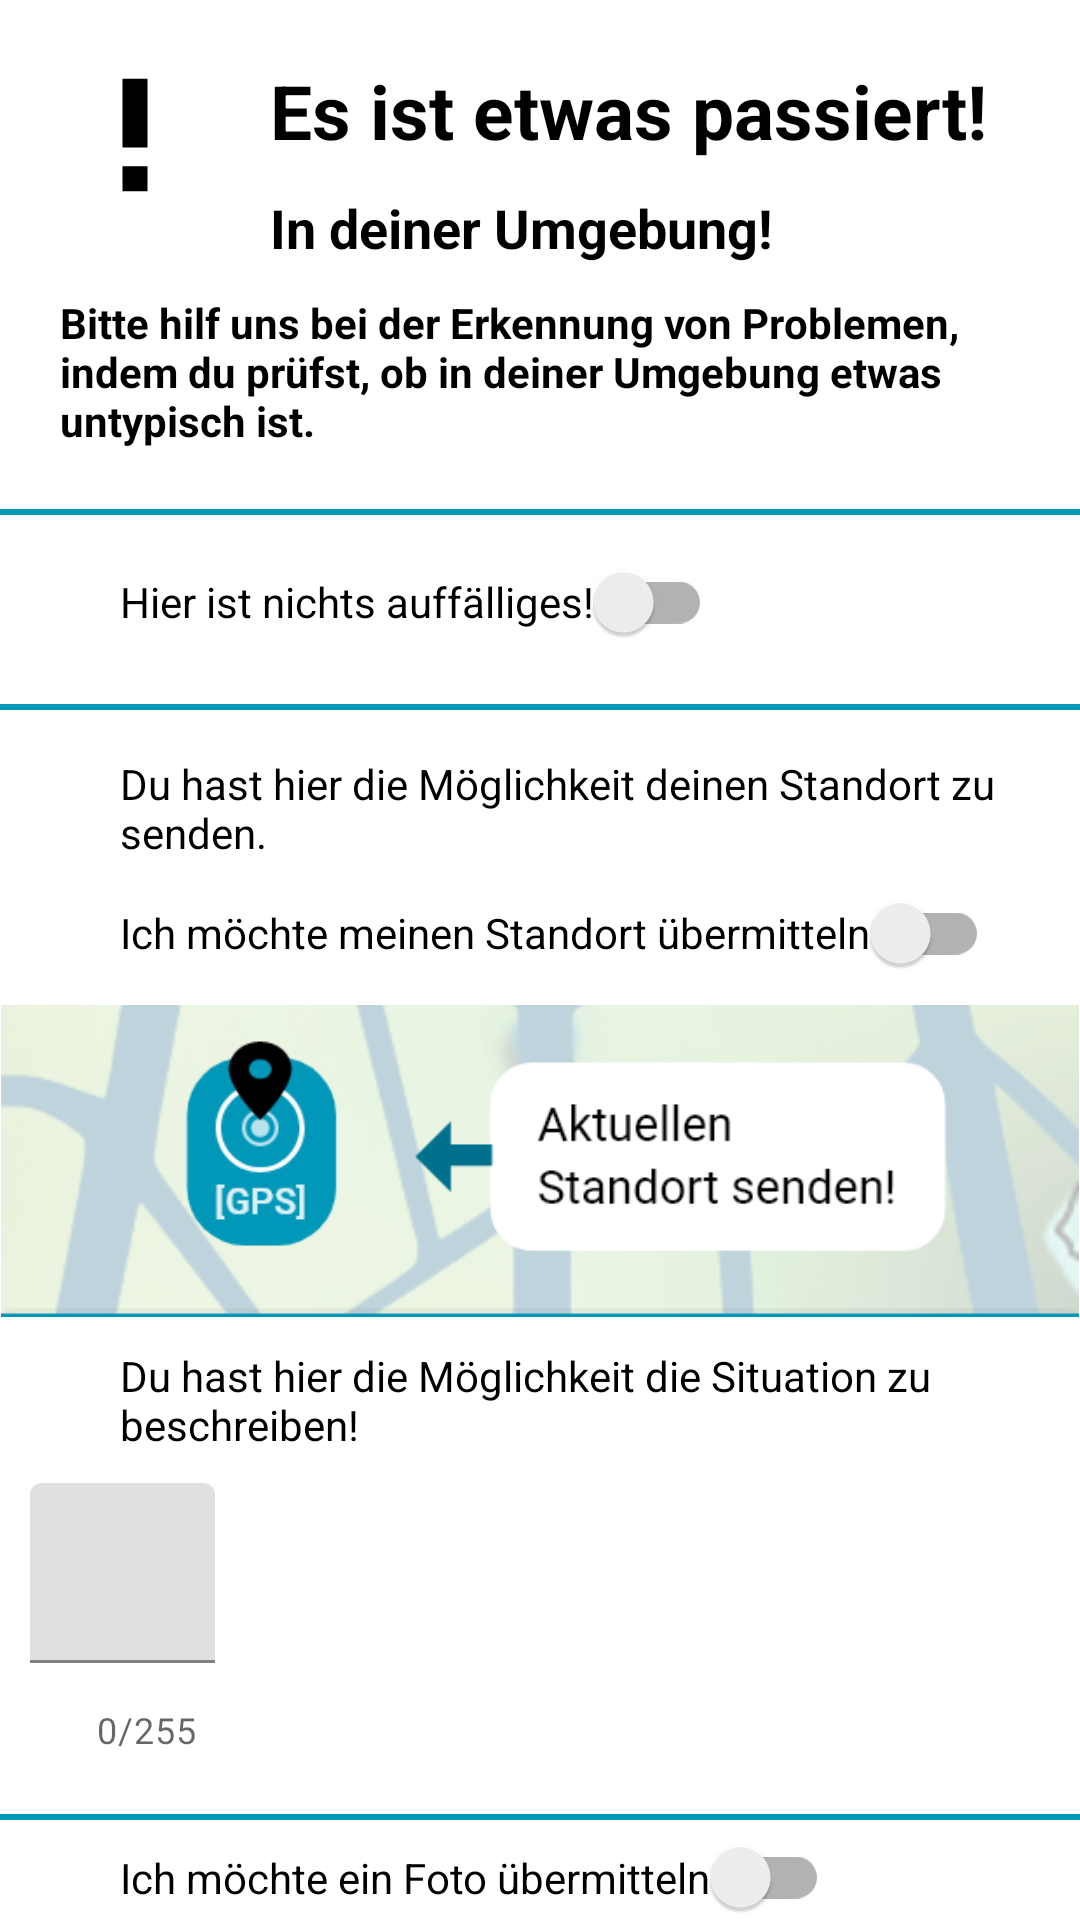

Screen size 1080×1920. Icon name, then its box in pixels as Rect(x1, y1, x2, y2):
exclamation thick: Rect(122, 78, 148, 192)
